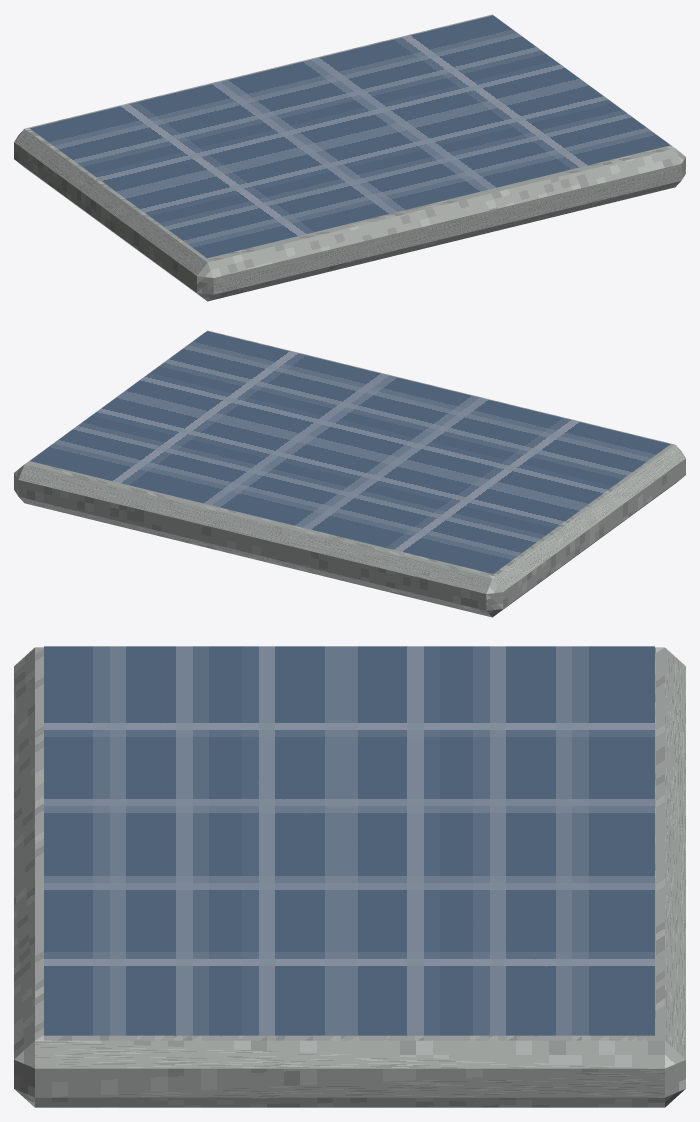
Rendered from solar_panel.glb.
The picture shows the model from 3 angles, top to bottom: view 1: azimuth 30°, elevation 25°; view 2: azimuth 150°, elevation 25°; view 3: azimuth 270°, elevation 25°; orthographic projection. The views are drawn at different scales.
Visible parts, largest first — view 1: block_laminated blue cells, block_solar panel frame; view 2: block_laminated blue cells, block_solar panel frame; view 3: block_laminated blue cells, block_solar panel frame.
Part boxes in pixels (x1,y1,x2,y2): block_laminated blue cells: (30,15,669,258); block_solar panel frame: (14,14,685,301); block_laminated blue cells: (30,331,670,573); block_solar panel frame: (14,330,685,617); block_laminated blue cells: (44,646,654,1035); block_solar panel frame: (14,647,685,1107).
Size of the model in its own units: 0.5 by 0.0398 by 0.3455.
Materials: 1 (1 with a texture image).
